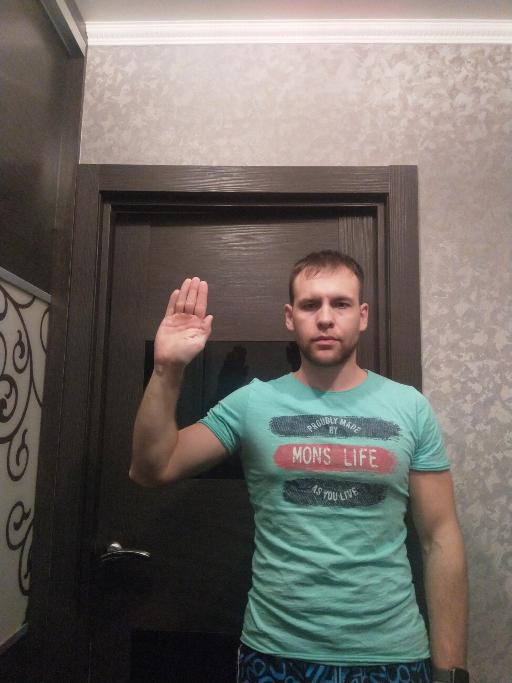stop: (152, 275, 213, 369)
